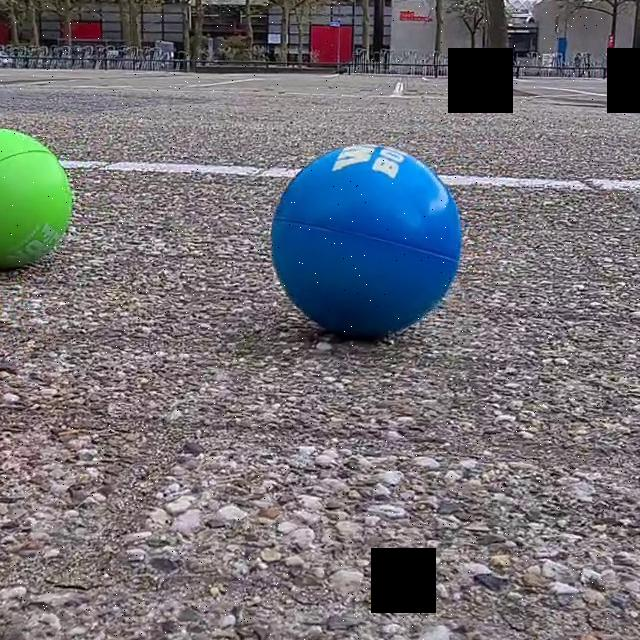ball: (270, 142, 467, 342), (2, 125, 76, 278)
